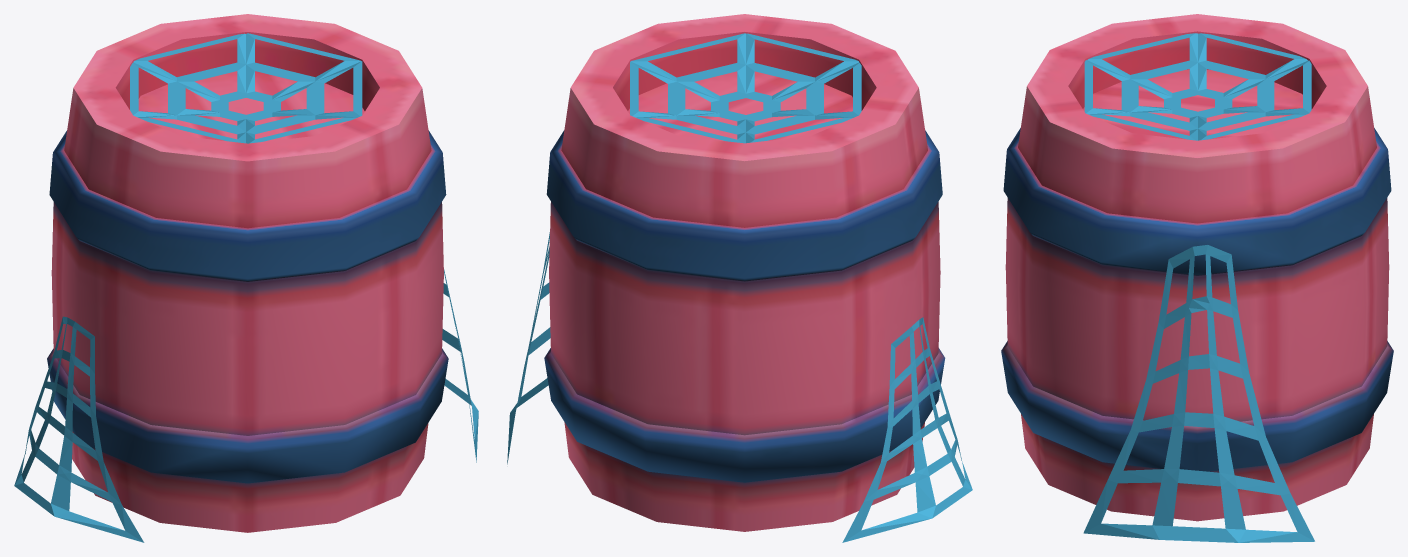
File: barrels1.fbx
3 renders of one model, left to right at view 1: azimuth 30°, elevation 25°; view 2: azimuth 150°, elevation 25°; view 3: azimuth 270°, elevation 25°, orthographic. The views are drawn at different scales.
Parts seen in each view (by area): view 1: barrels1; view 2: barrels1; view 3: barrels1.
Part boxes in pixels (bbox=[...]): barrels1: bbox=[14, 14, 478, 542]; barrels1: bbox=[507, 14, 972, 542]; barrels1: bbox=[1001, 14, 1393, 542].
Bounding box in the file's own units: 3.3 × 2.81 × 2.7.
Materials: 1 (1 with a texture image).
